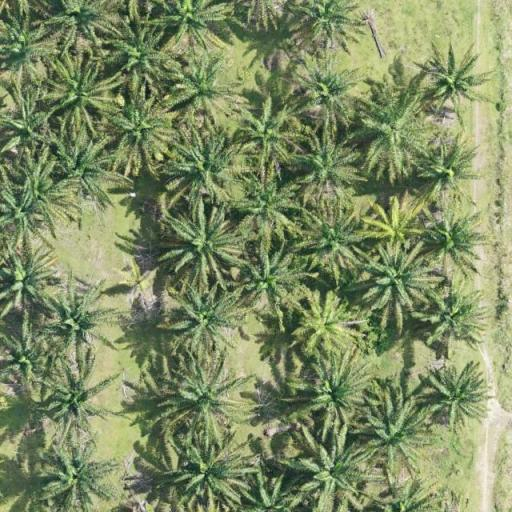Ganoderma: (430, 60, 474, 102), (303, 305, 347, 345), (378, 208, 418, 250)
